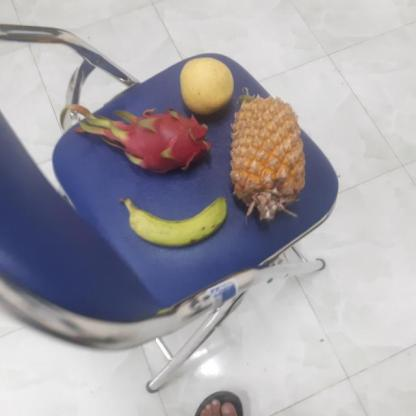banana: (126, 191, 226, 246)
pear: (177, 57, 235, 114)
pineapple: (227, 94, 305, 215)
pitaya: (102, 110, 209, 173)
